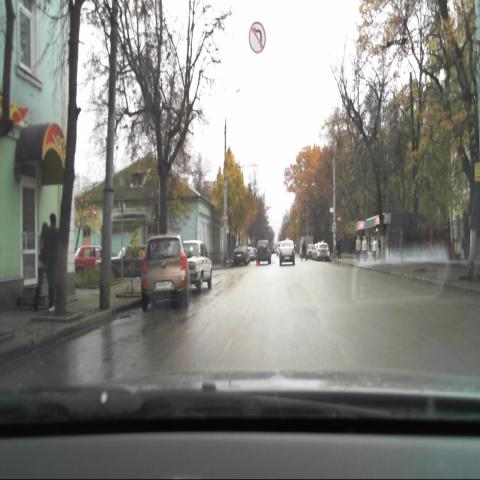3_18_2: (248, 20, 266, 53)
